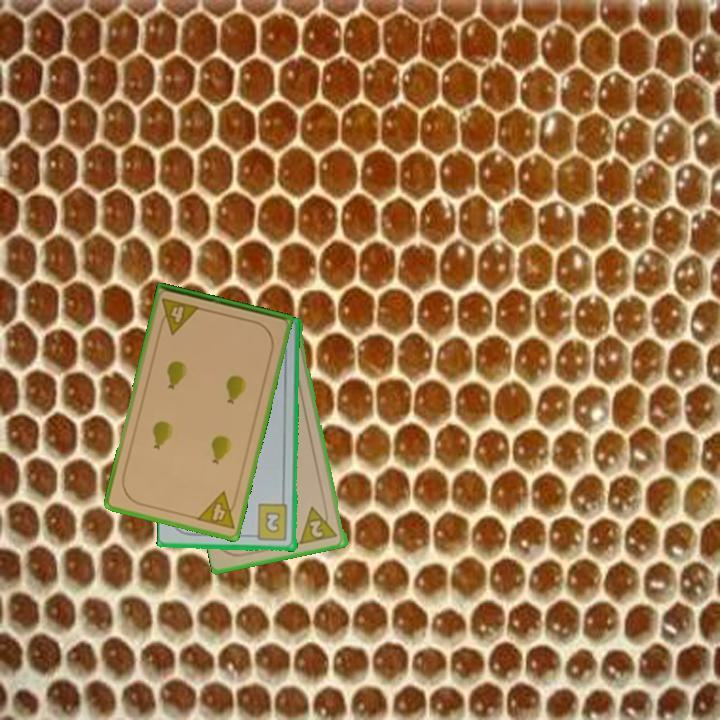2b: (248, 502, 290, 544)
2p: (297, 501, 341, 547)
4p: (193, 488, 241, 532), (155, 294, 203, 337)
